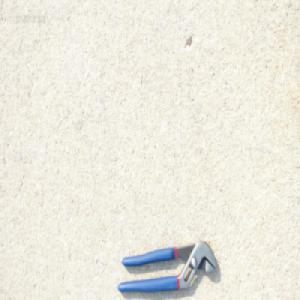Pliers: (118, 238, 218, 289)
